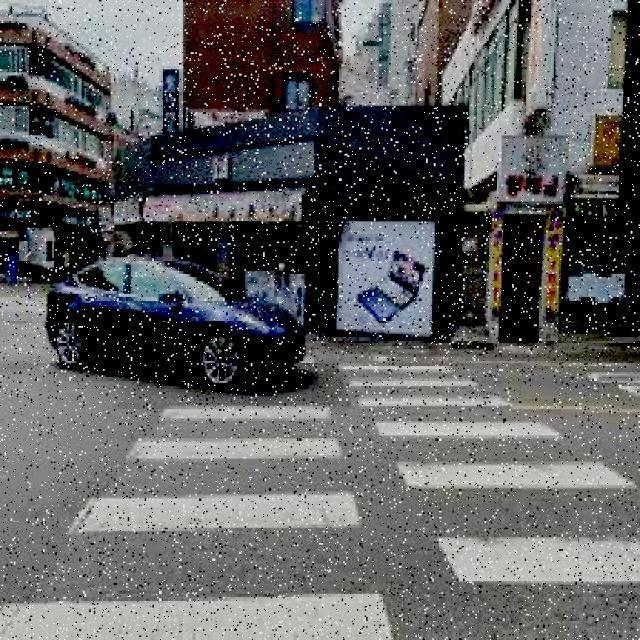Pedestrian crosswalk: (2, 359, 640, 638)
